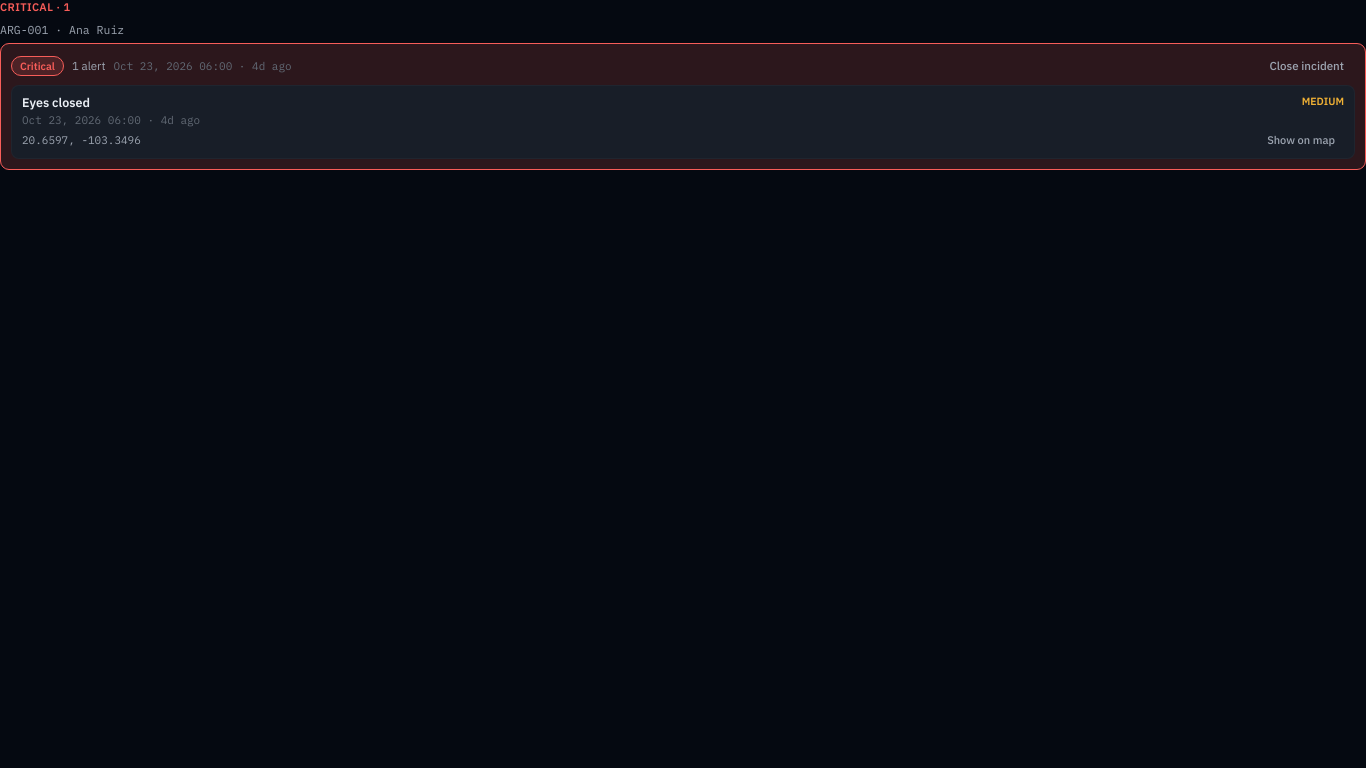
Test: IncidentFeed › guardian closes a critical incident through the dialog, with a required note
Click the button "Close incident": [1307, 66] box [1258, 54, 1355, 77]
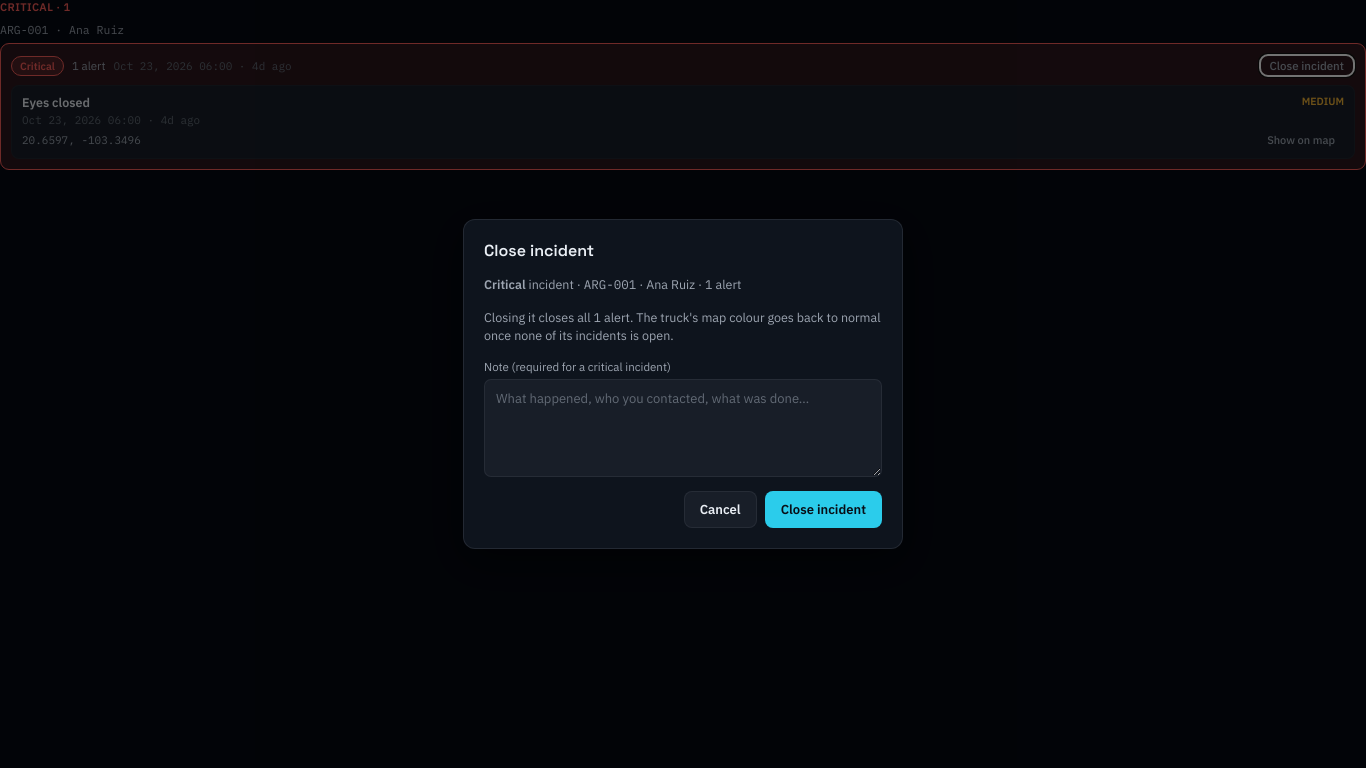
Click the button "Close incident": [823, 510] box [765, 491, 882, 528]
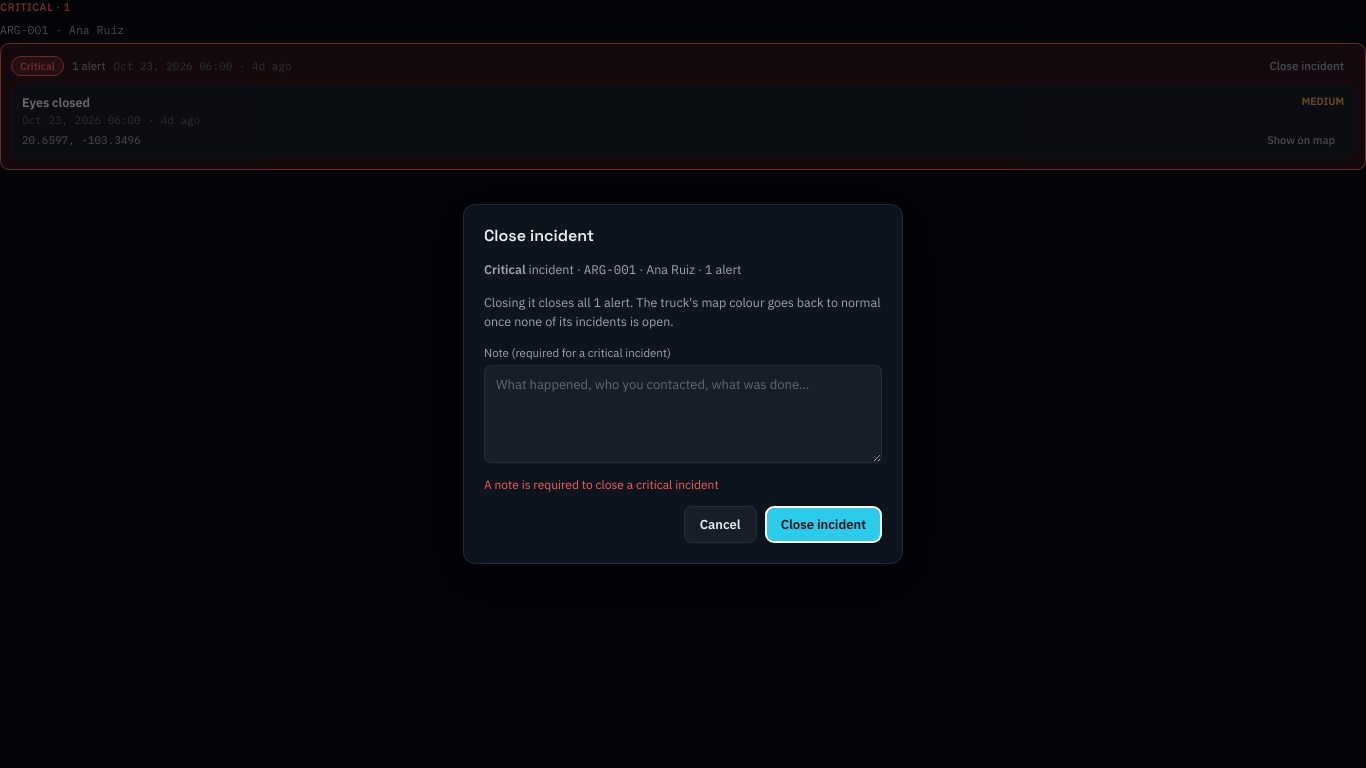
Expected: the message shows "A note is required", [484, 477, 719, 492]
In the text box: [683, 414] box [484, 365, 882, 463], type "Driver rested 20 min"
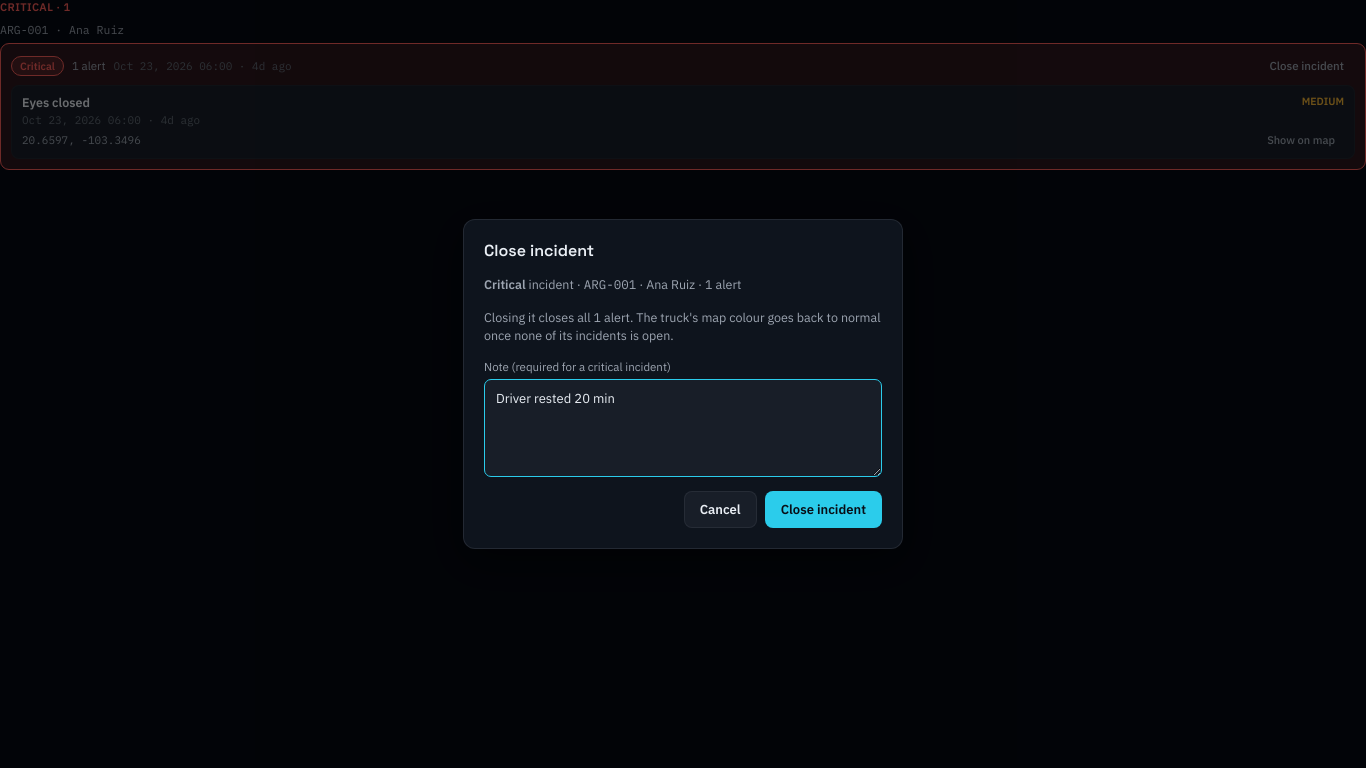
Click the button "Close incident": [823, 510] box [765, 491, 882, 528]
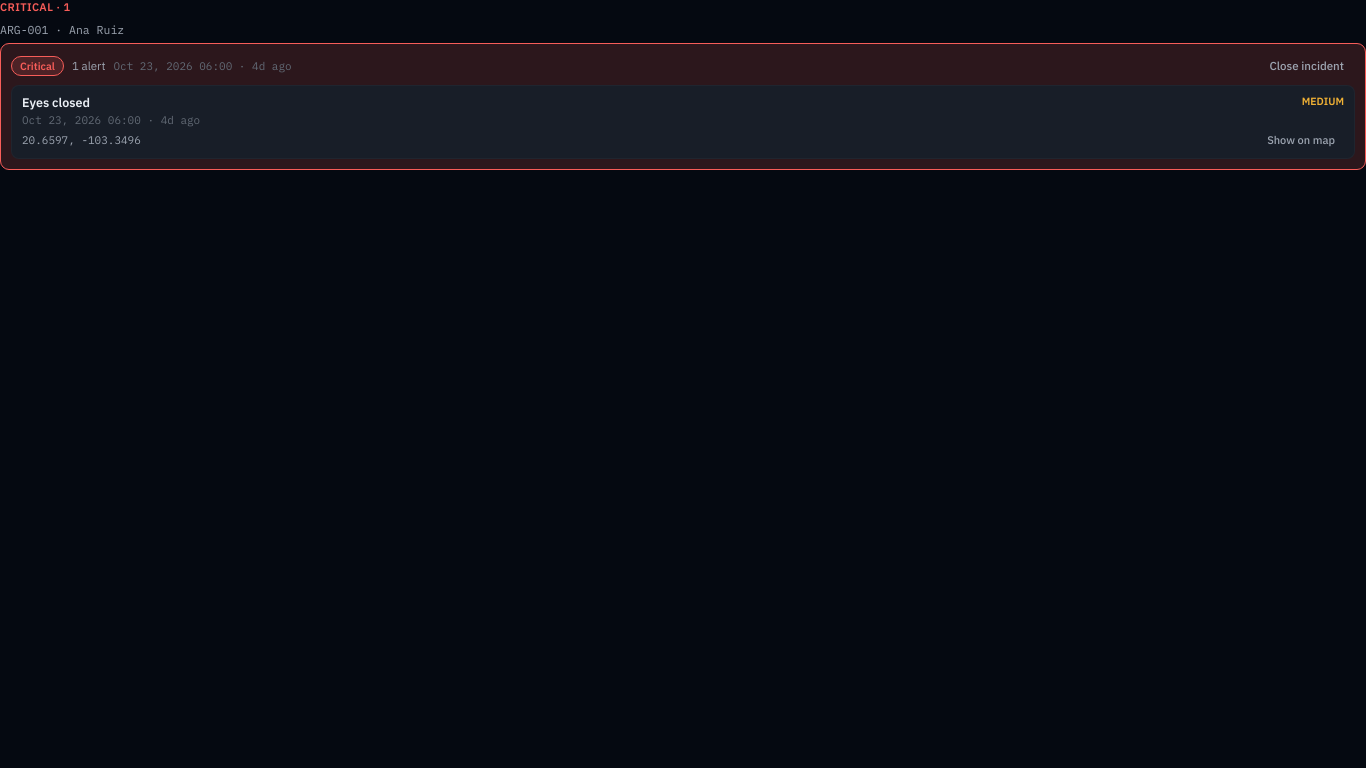
Expected: the dialog is gone
